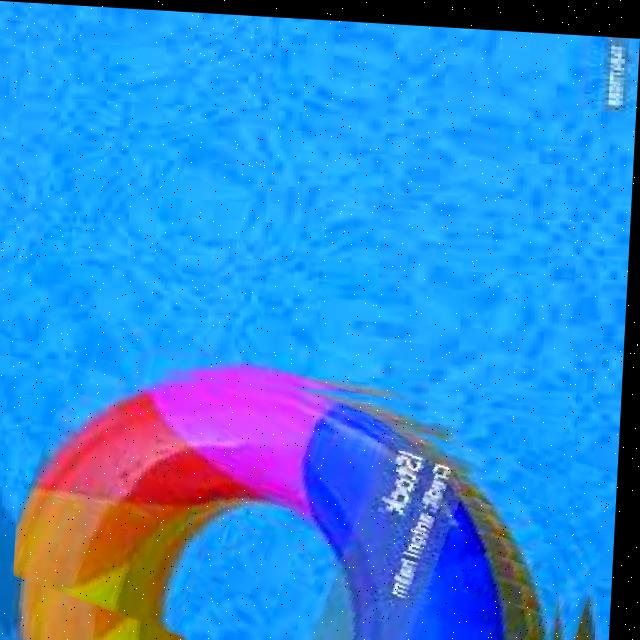lifesaver: (20, 377, 559, 640)
